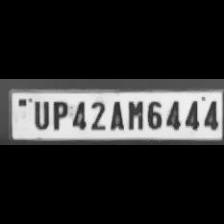2: (87, 99, 107, 131)
4: (180, 97, 200, 130), (199, 97, 219, 130), (68, 99, 88, 131), (164, 97, 182, 130)
6: (144, 98, 162, 130)
A: (107, 99, 125, 131)
M: (125, 99, 143, 131)
P: (48, 98, 68, 130)
U: (28, 98, 50, 130)
